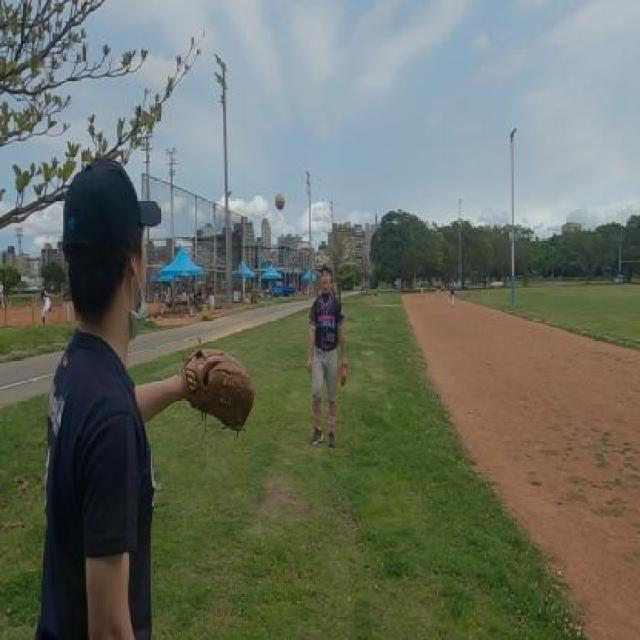baseball: (274, 190, 286, 212)
